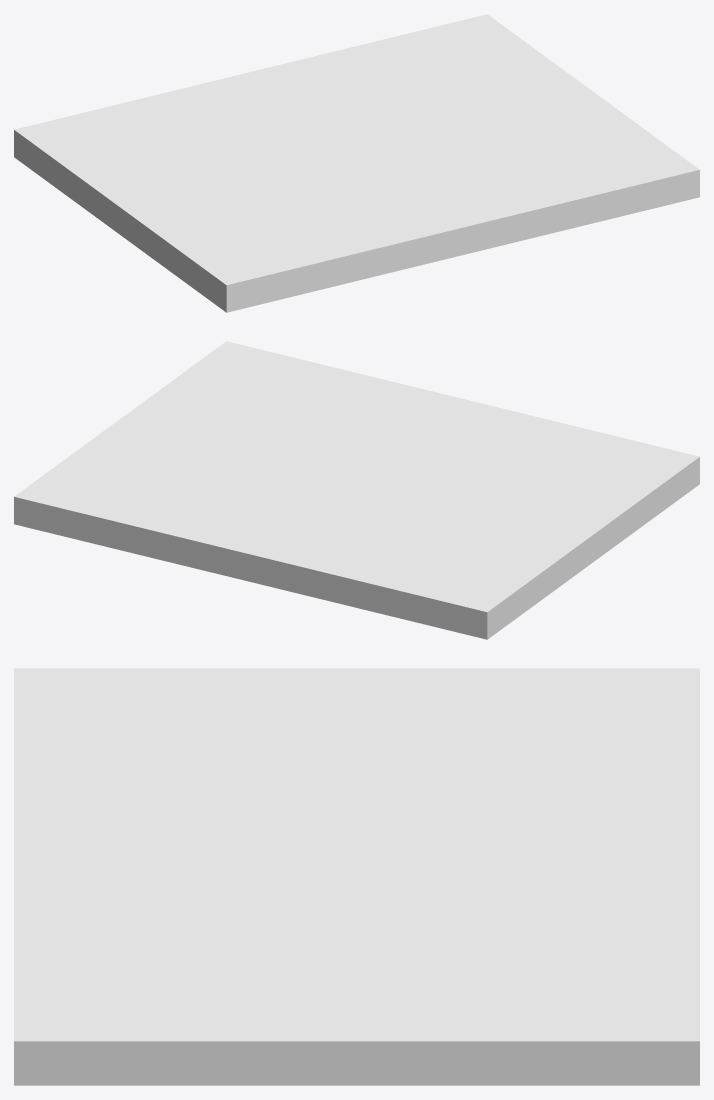
File: settimanaenigmistica.gltf
3 views of the same model, one above another, from view 1: azimuth 30°, elevation 25°; view 2: azimuth 150°, elevation 25°; view 3: azimuth 270°, elevation 25° (orthographic). The views are drawn at different scales.
Visible parts, largest first — view 1: Layer.1; view 2: Layer.1; view 3: Layer.1.
Boxes of the visible parts, bbox=[...] form: Layer.1: bbox=[14, 14, 699, 312]; Layer.1: bbox=[14, 341, 699, 639]; Layer.1: bbox=[14, 668, 699, 1085].
Size of the model in its own units: 18 by 1 by 14.
1 material, 1 textured.
